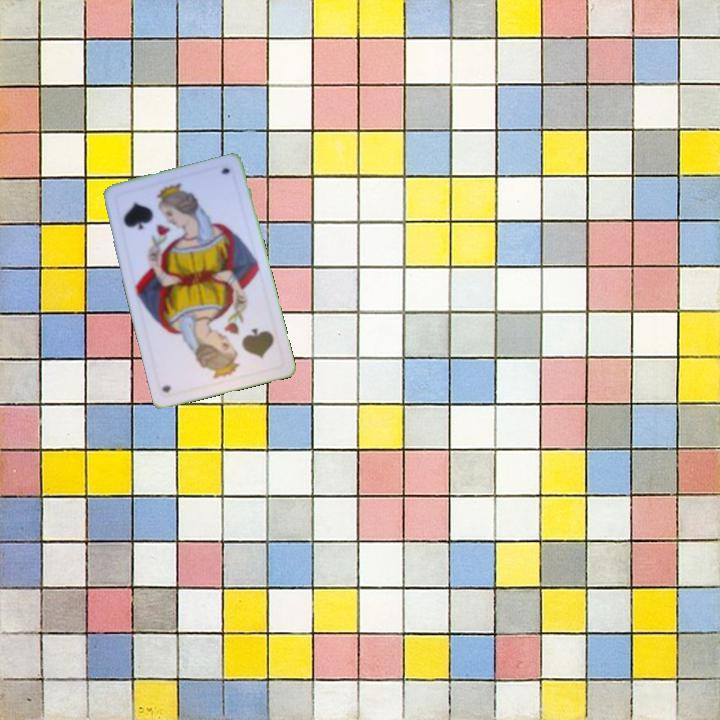s_q.png: (110, 178, 188, 249), (207, 312, 285, 383)
